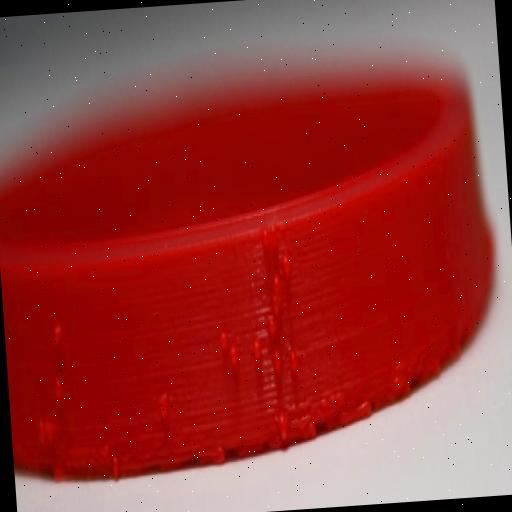blobs: (250, 330, 266, 368), (275, 410, 291, 447), (266, 307, 280, 349), (270, 262, 284, 300), (36, 416, 50, 452), (216, 326, 230, 361), (227, 345, 241, 380), (158, 392, 172, 426), (54, 370, 66, 407), (288, 346, 300, 380), (272, 344, 284, 378), (109, 452, 122, 483), (268, 222, 280, 254), (280, 246, 291, 280), (51, 312, 62, 345)
